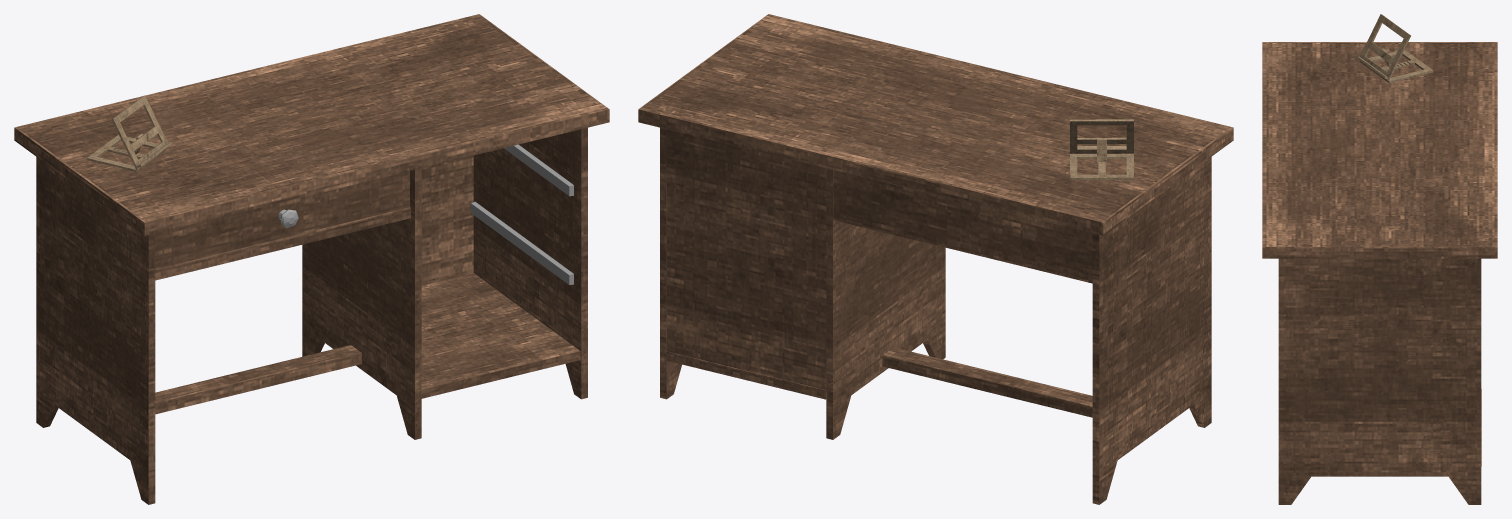
Rendered from Table.fbx.
3 renders of one model, left to right at view 1: azimuth 30°, elevation 25°; view 2: azimuth 150°, elevation 25°; view 3: azimuth 270°, elevation 25°, orthographic. The views are drawn at different scales.
Parts seen in each view (by area): view 1: Table, Cube.047; view 2: Table, Cube.047; view 3: Table, Cube.047.
Part boxes in pixels (left/top/right/bottom): Table: left=14, top=14, right=609, bottom=504; Cube.047: left=87, top=95, right=172, bottom=171; Table: left=638, top=14, right=1233, bottom=504; Cube.047: left=1069, top=119, right=1133, bottom=179; Table: left=1262, top=42, right=1497, bottom=504; Cube.047: left=1356, top=14, right=1433, bottom=82.
Size of the model in its own units: 114 by 79.82 by 55.47.
1 material, 1 textured.
